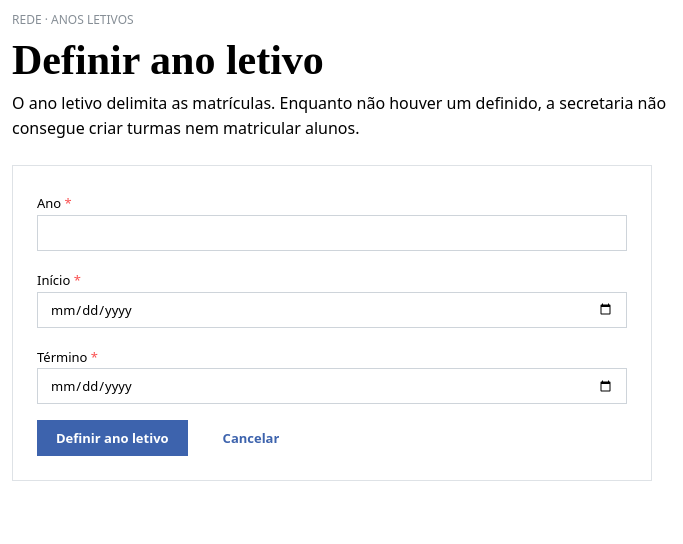
it: AcademicYearForm › an empty form names each missing field without asking the server
The image size is (683, 544).
Click the button "Definir ano letivo" at (112,438), box [37, 420, 188, 456]
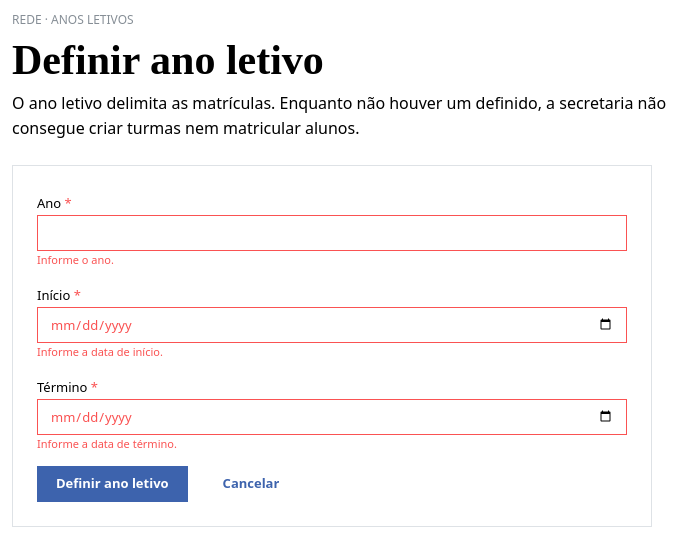
Check: the text "Informe o ano." is shown, box [37, 252, 114, 267]
Check: the text "Informe a data de início." is shown, box [37, 344, 163, 359]
